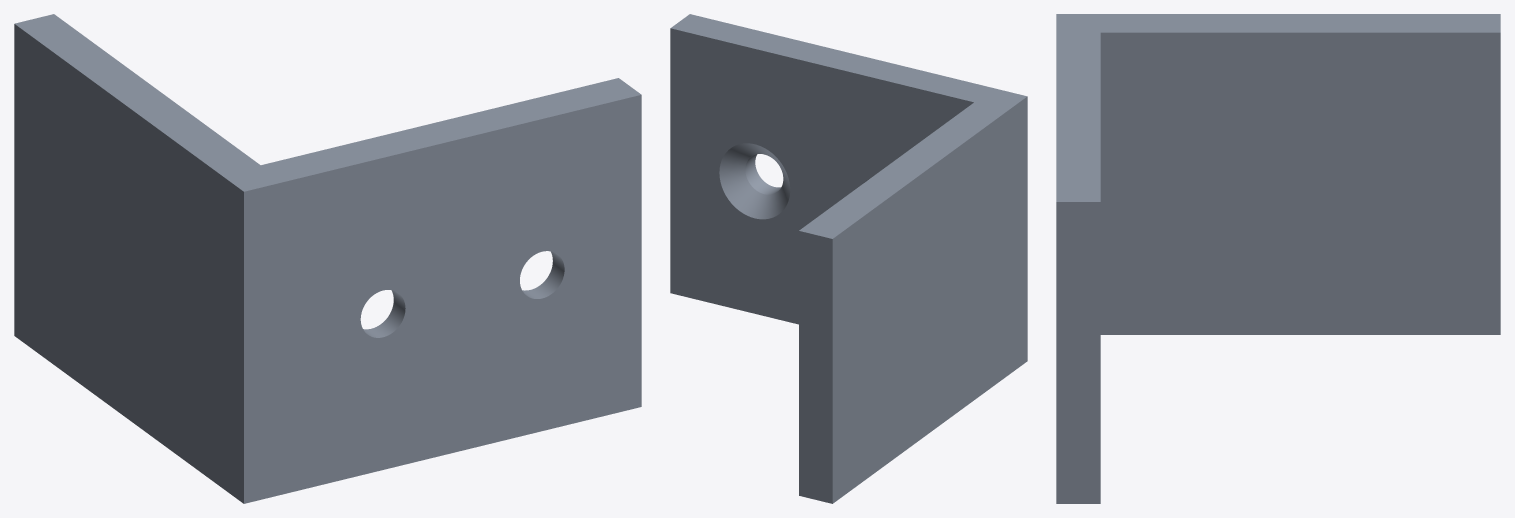
Rendered from step-2-preview-1.glb.
The picture shows the model from 3 angles, left to right: view 1: azimuth 30°, elevation 25°; view 2: azimuth 150°, elevation 25°; view 3: azimuth 270°, elevation 25°; orthographic projection. The views are drawn at different scales.
Parts seen in each view (by area): view 1: preview_0, preview_1, preview_3, preview_5, preview_6; view 2: preview_1, preview_8, preview_3, preview_7, preview_11, preview_6; view 3: preview_9, preview_3, preview_4.
Boxes of the visible parts, x1,y1,x2,y2 form: preview_0: (244, 95, 641, 503); preview_1: (14, 24, 243, 503); preview_3: (14, 14, 641, 191); preview_5: (363, 290, 405, 337); preview_6: (522, 251, 564, 298); preview_1: (832, 96, 1027, 503); preview_8: (670, 28, 973, 324); preview_3: (671, 14, 1026, 238); preview_7: (799, 231, 832, 503); preview_11: (719, 143, 790, 219); preview_6: (745, 154, 780, 194); preview_9: (1100, 32, 1500, 334); preview_3: (1056, 14, 1500, 201); preview_4: (1056, 202, 1100, 503).
Size of the model in its own units: 0.04 by 0.03 by 0.04.
